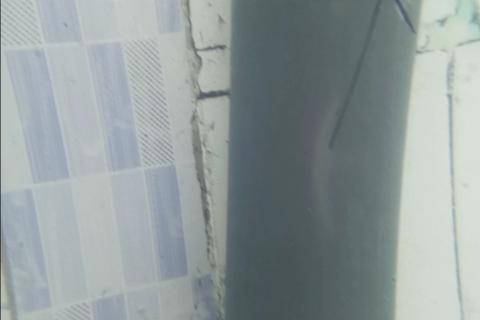keretakan: (327, 1, 383, 152), (390, 0, 419, 40)
